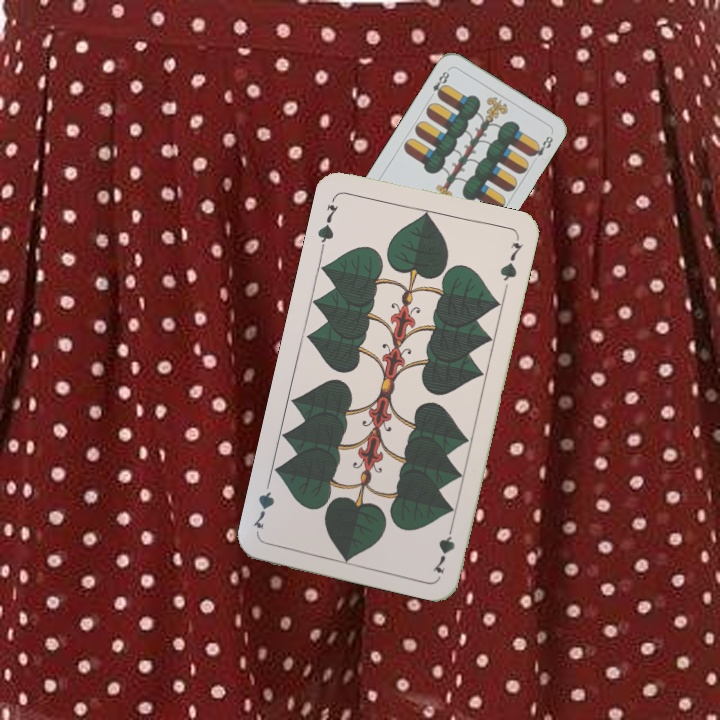E8: (425, 65, 452, 100)
G7: (428, 518, 458, 577), (313, 193, 341, 252)
